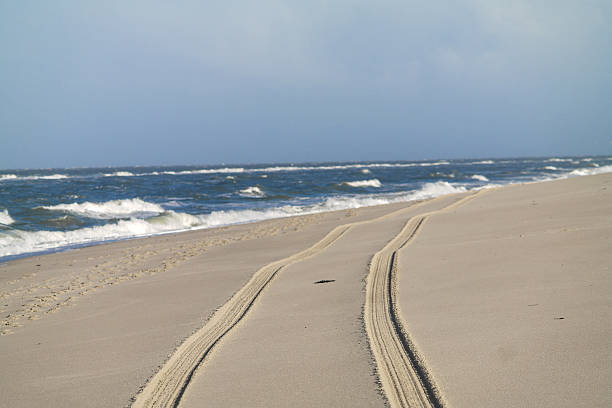vehicle_track: (132, 202, 424, 407), (132, 224, 350, 407), (364, 193, 477, 407)
